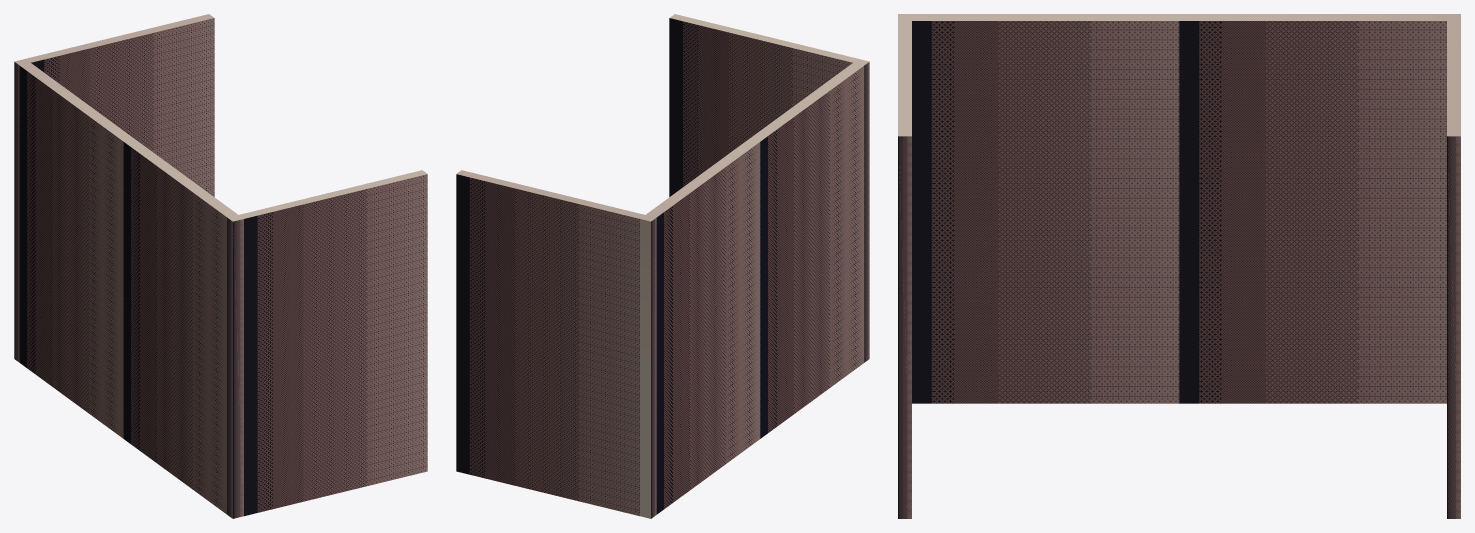
File: cubicle.fbx
3 views of the same model, side by side, from view 1: azimuth 30°, elevation 25°; view 2: azimuth 150°, elevation 25°; view 3: azimuth 270°, elevation 25° (orthographic). The views are drawn at different scales.
Parts seen in each view (by area): view 1: cube box; view 2: cube box; view 3: cube box.
Part boxes in pixels (x1=…): cube box: x1=14, y1=14, x2=427, y2=518; cube box: x1=456, y1=14, x2=869, y2=518; cube box: x1=898, y1=14, x2=1460, y2=518.
Bounding box in the file's own units: 206 × 300 × 400.
Materials: 1 (1 with a texture image).
